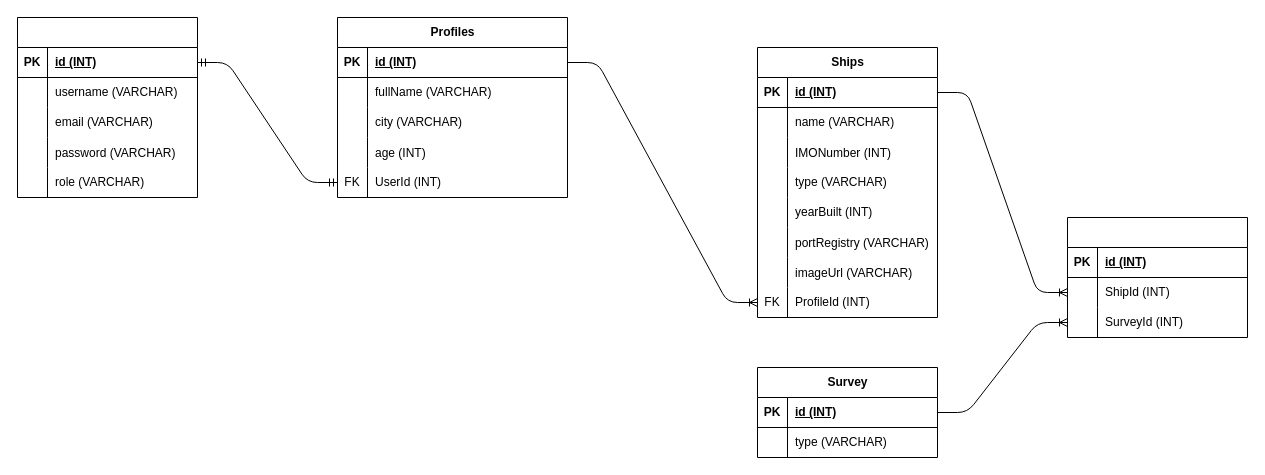
Some shapes in this 1265 by 475 pixel diagram are drawn without their labels. Each missing label, with the box of its shape:
ShipSurveys: (1066, 216, 1248, 338)
Users: (16, 16, 198, 198)
